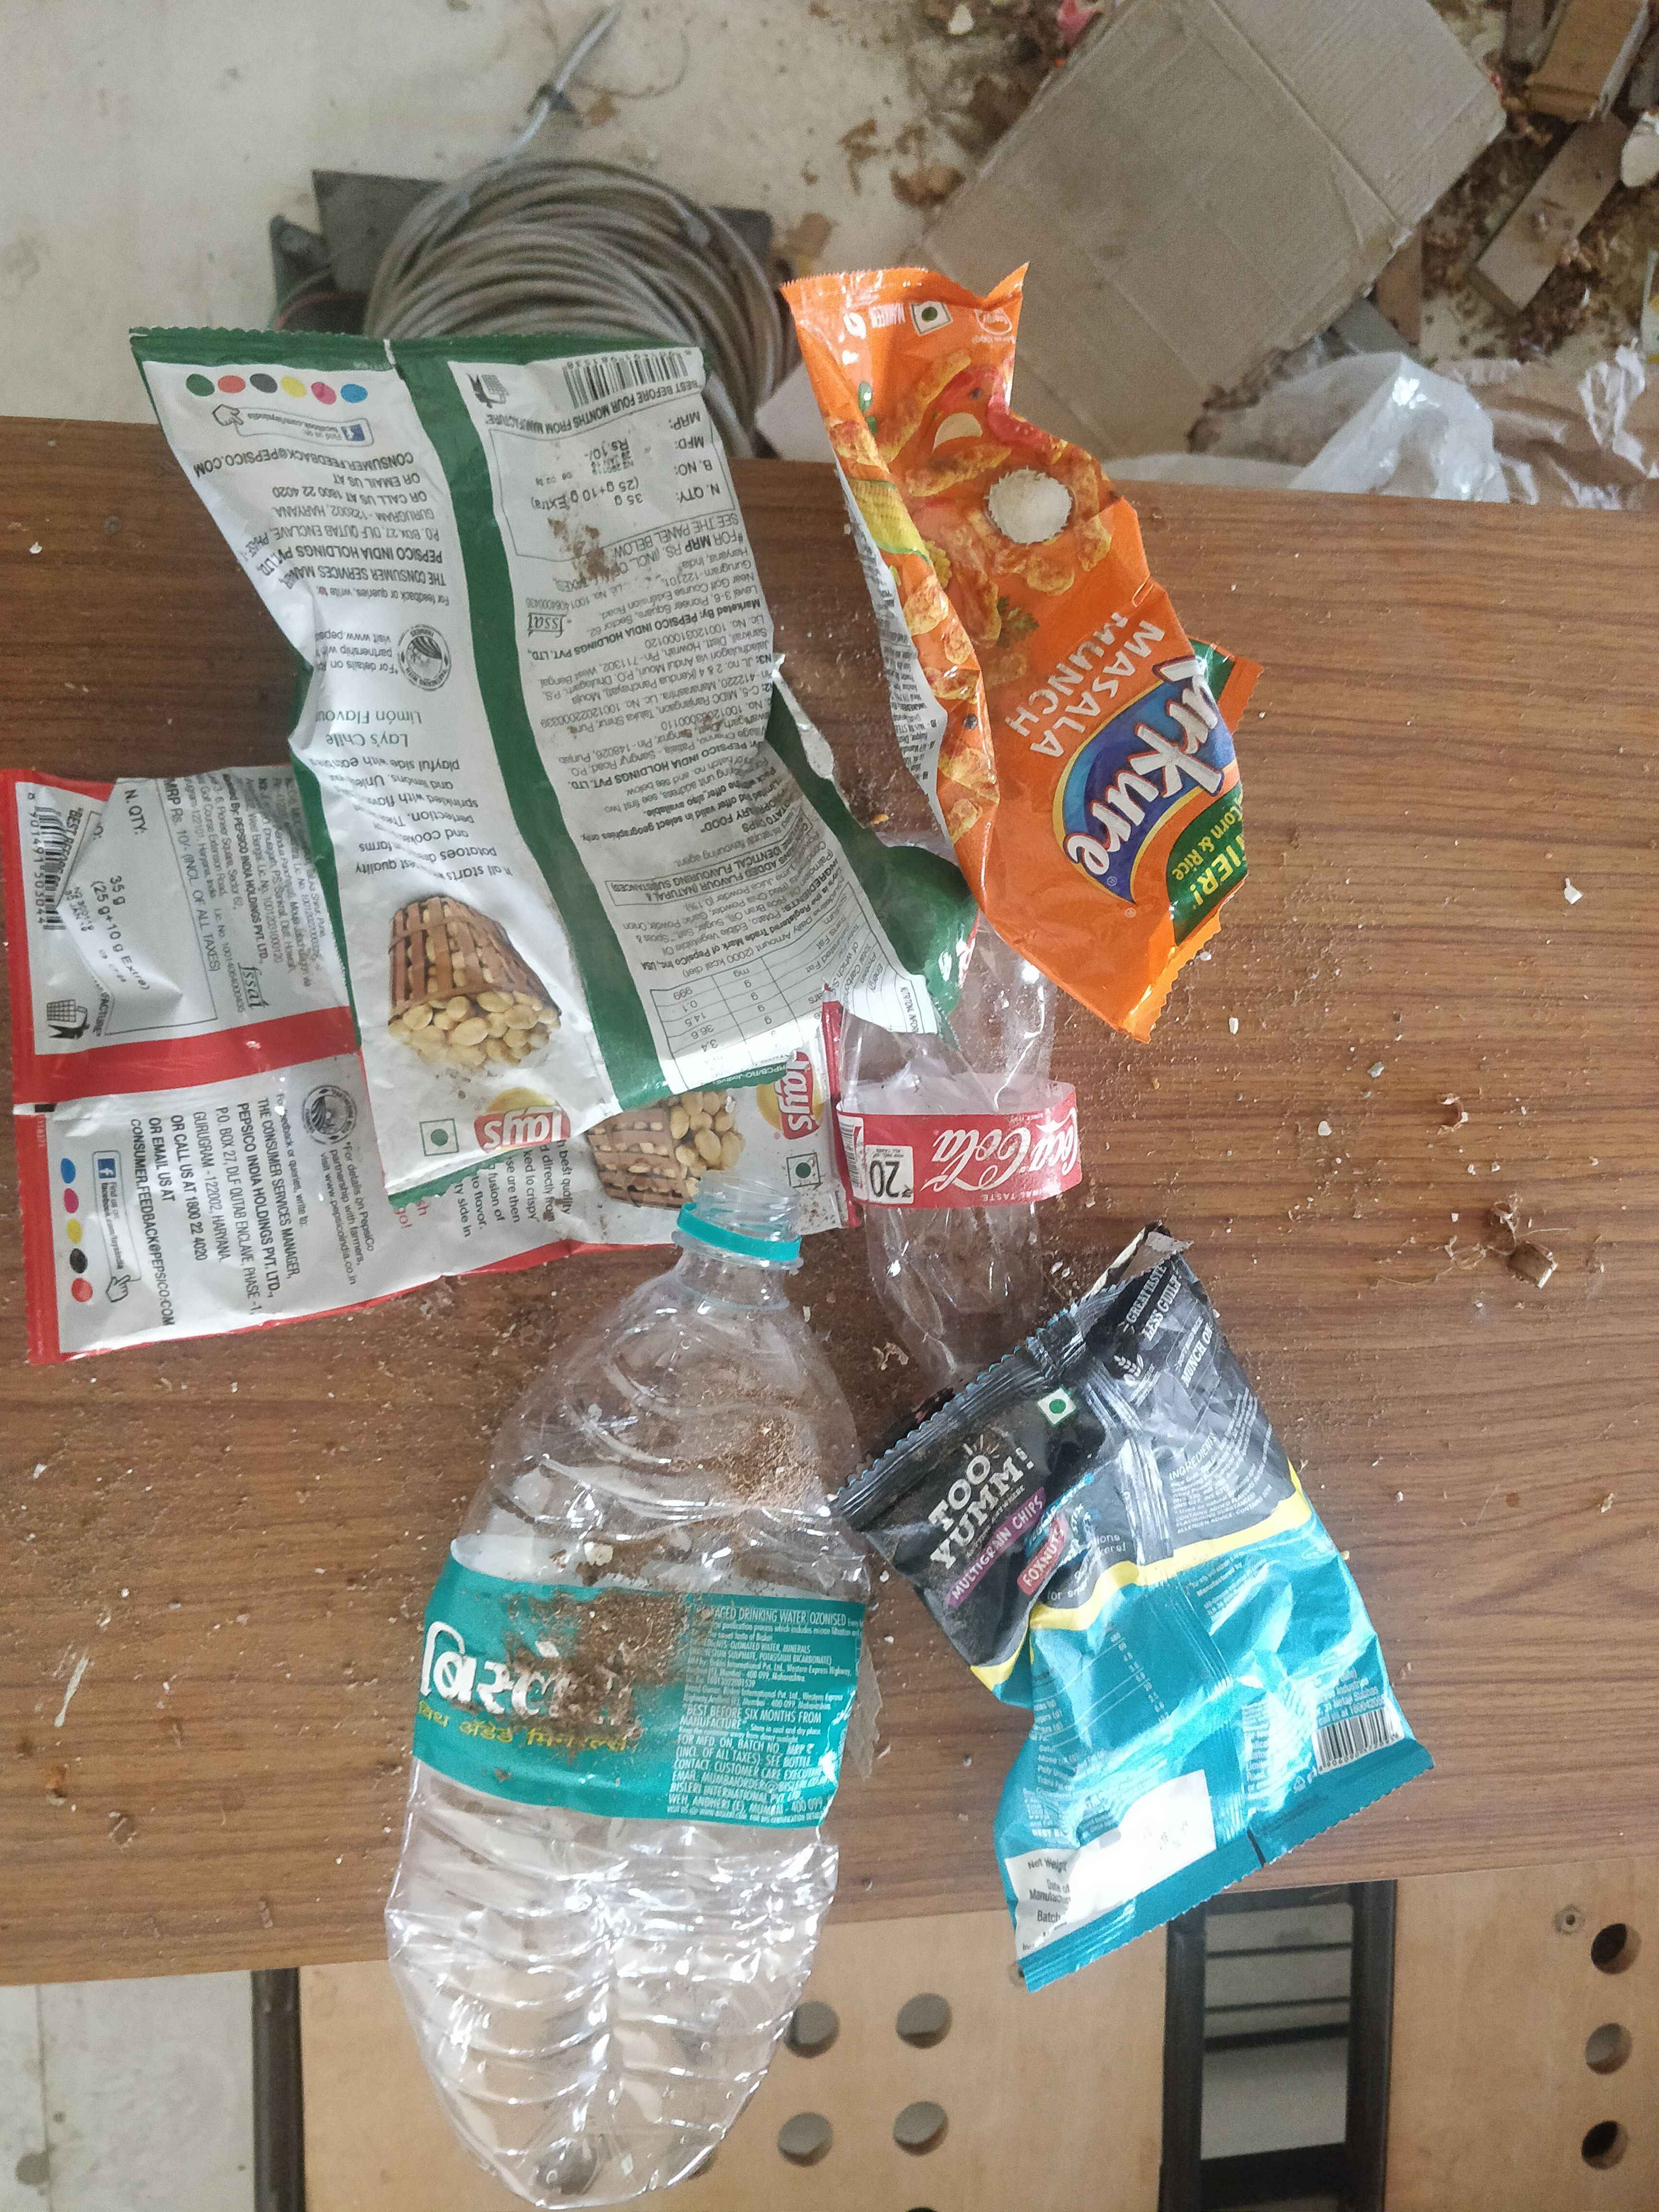Bisleri: (429, 1571, 840, 1824)
Coca-Cola: (868, 1111, 1103, 1204)
Lays: (716, 1038, 864, 1137), (439, 1090, 586, 1158)
kurkure: (1028, 634, 1234, 935)
tooyumm: (897, 1406, 1066, 1571)
